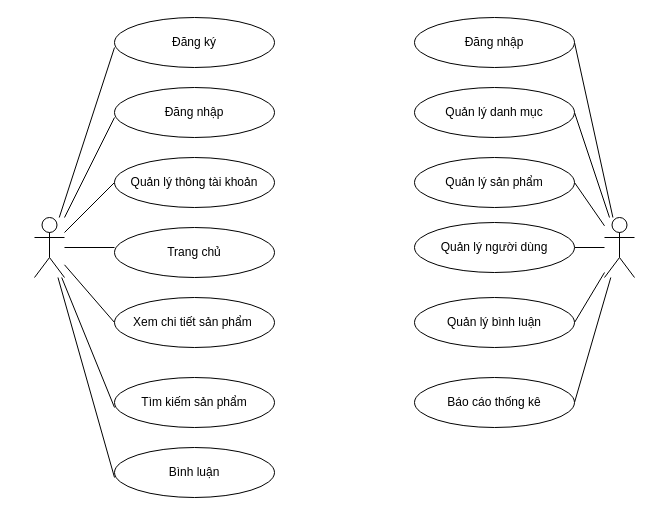
Image size: 653x515. Some labels were removed from this diagram. Each missing label, with the centre of its shape:
"Admin" goes at (x=619, y=247).
"Người dùng" goes at (x=49, y=247).
